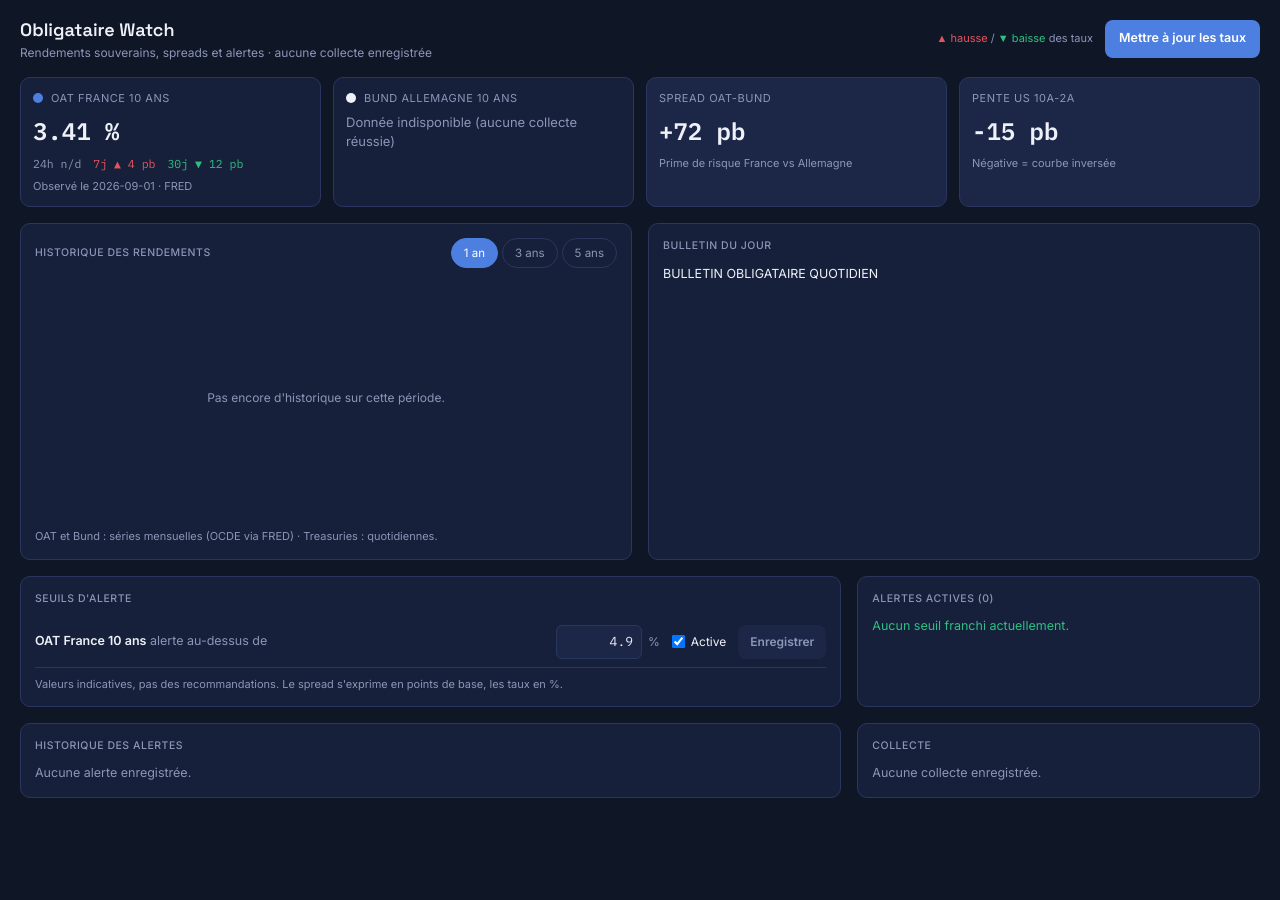
Test: Obligataire › runs a manual collection and shows its summary
Click the button "Mettre à jour les taux" at {"x": 1182, "y": 38}, box x1=1105 y1=20 x2=1260 y2=58
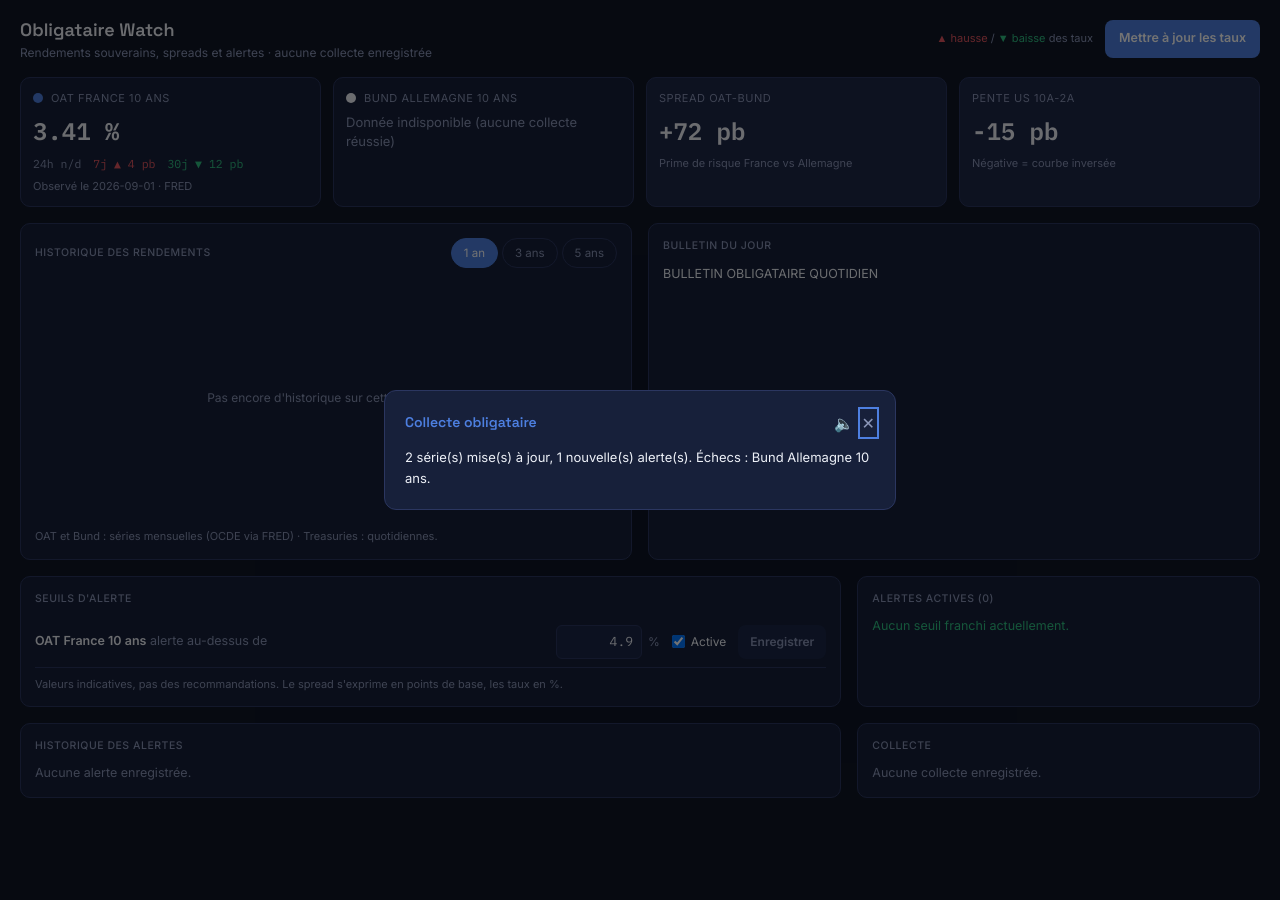
Result: the text "2 série(s) mise(s) à jour, 1 nouvelle(s) alerte(s). Échecs : Bund Allemagne 10 ans." is shown at x1=405 y1=449 x2=873 y2=486
